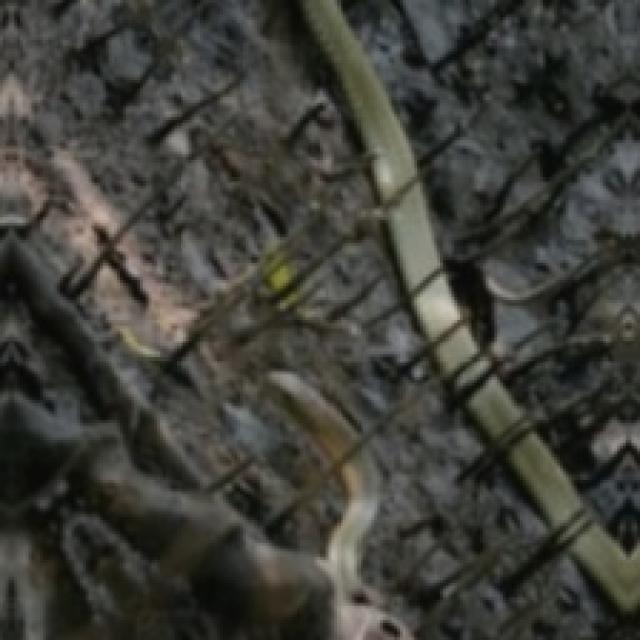king cobra: (300, 0, 637, 611)
